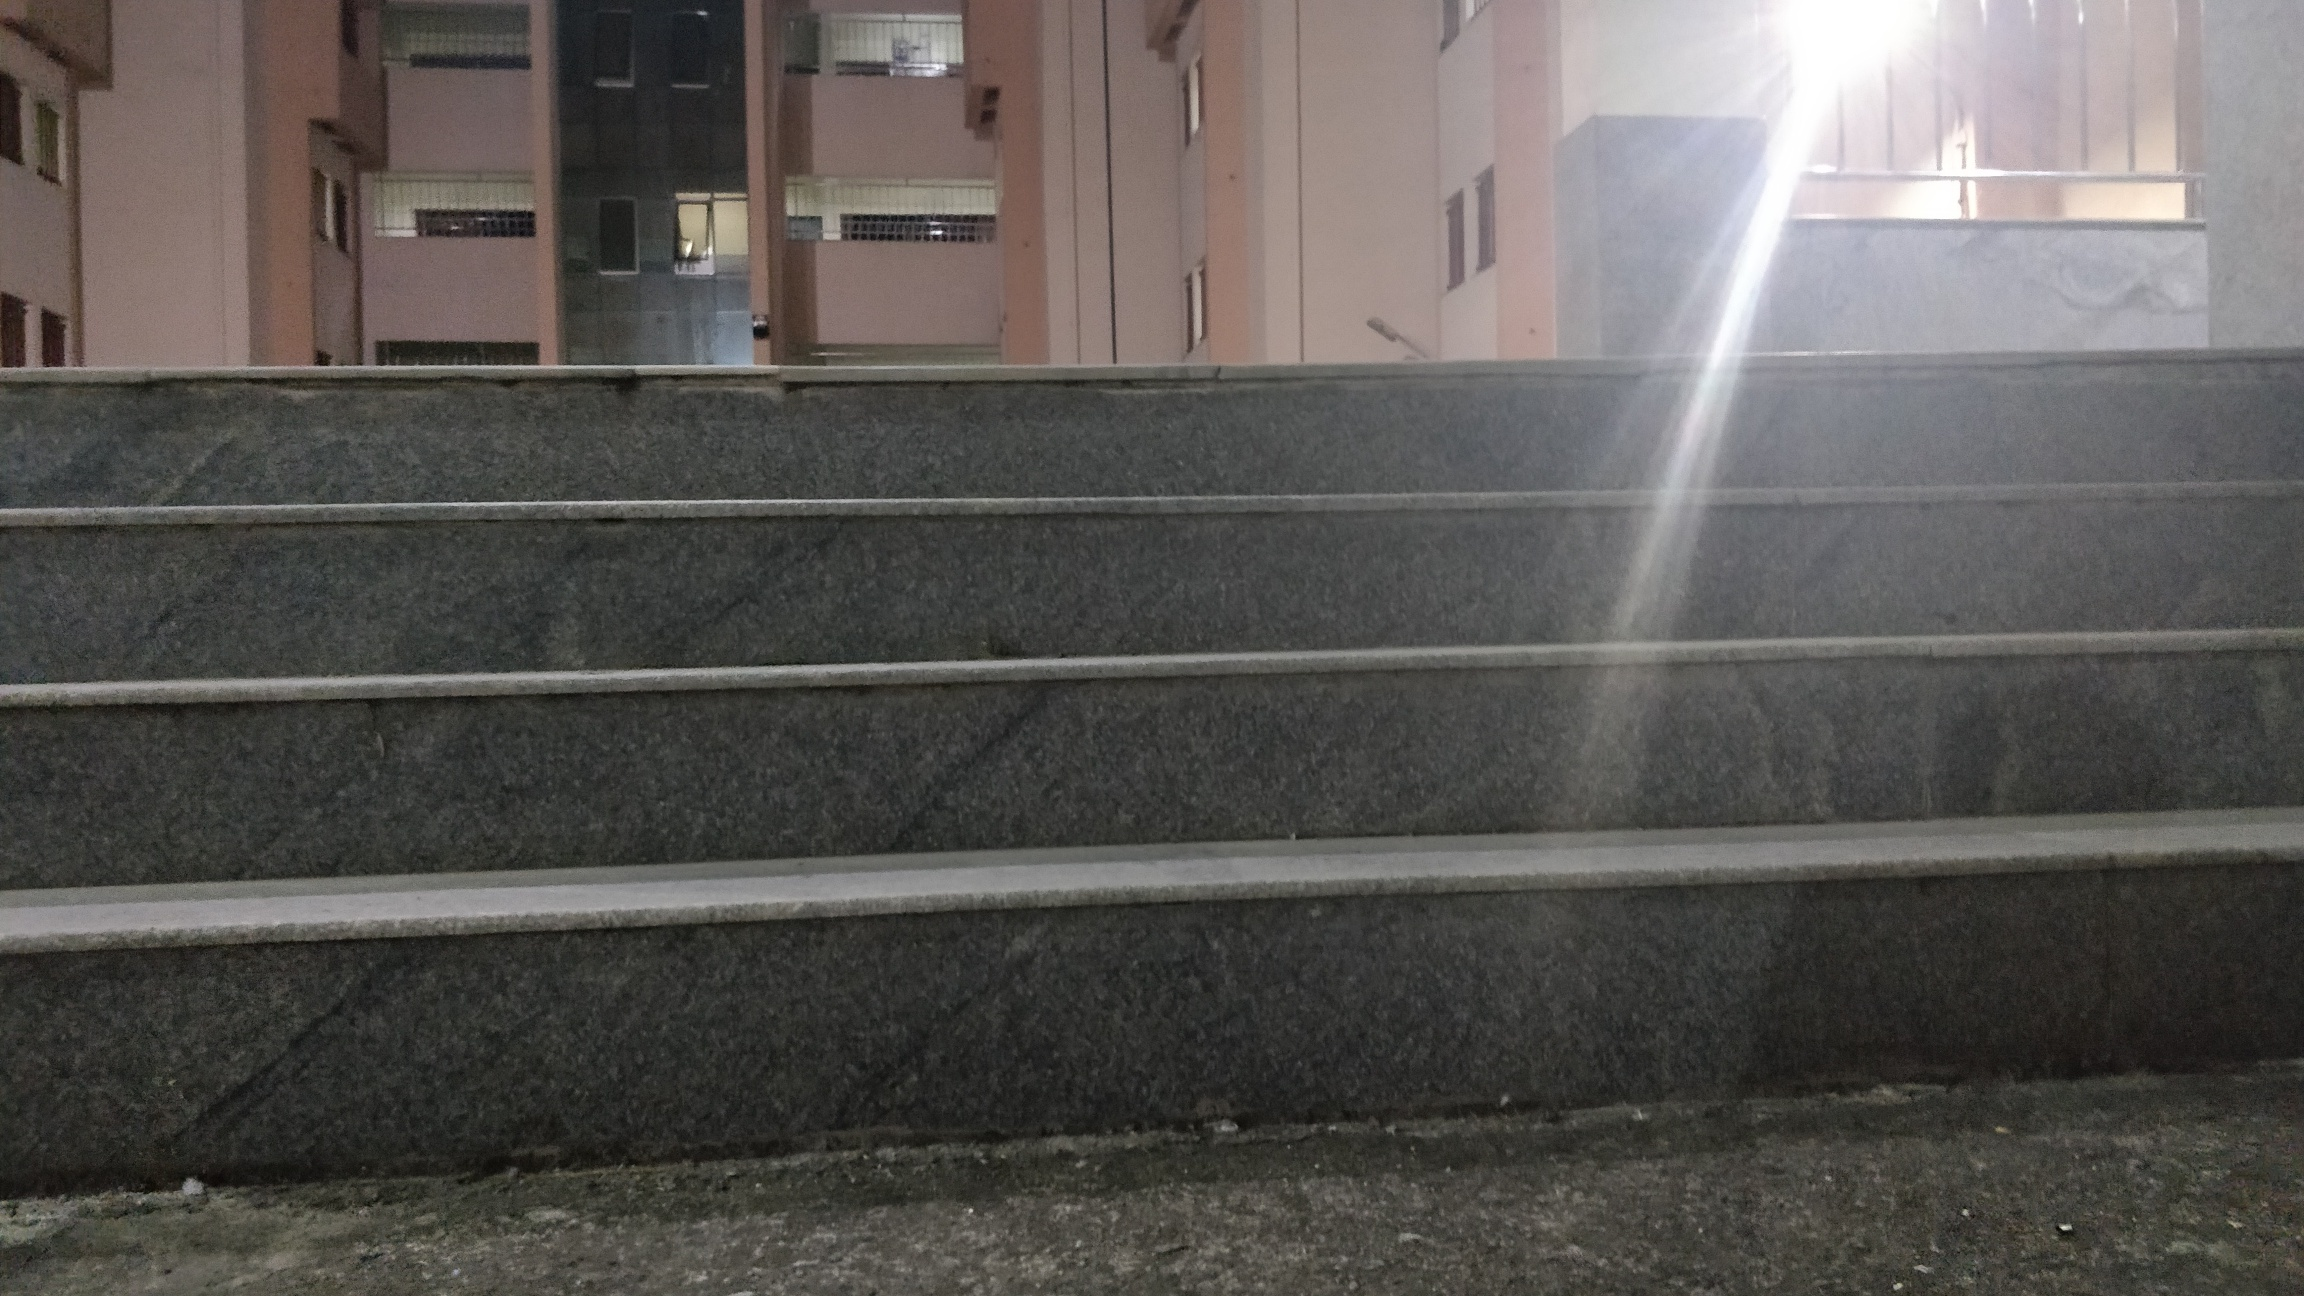stairs_up: (25, 353, 2245, 1119)
